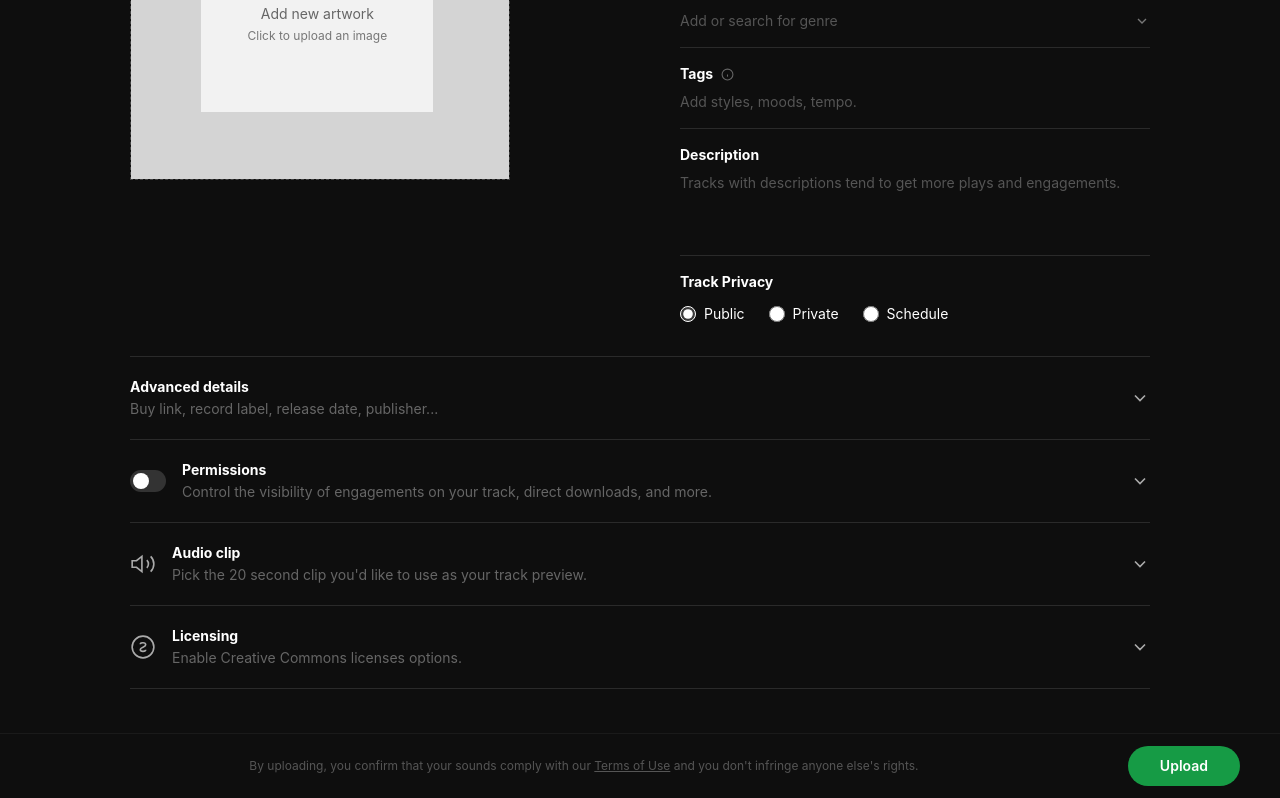
Test: TrackInfoPage › expands Advanced details when its section header is clicked
The width and height of the screenshot is (1280, 798).
(page scrolled)
Click the button with test id "advanced-details-toggle": (189, 386) [130,357,1150,439]
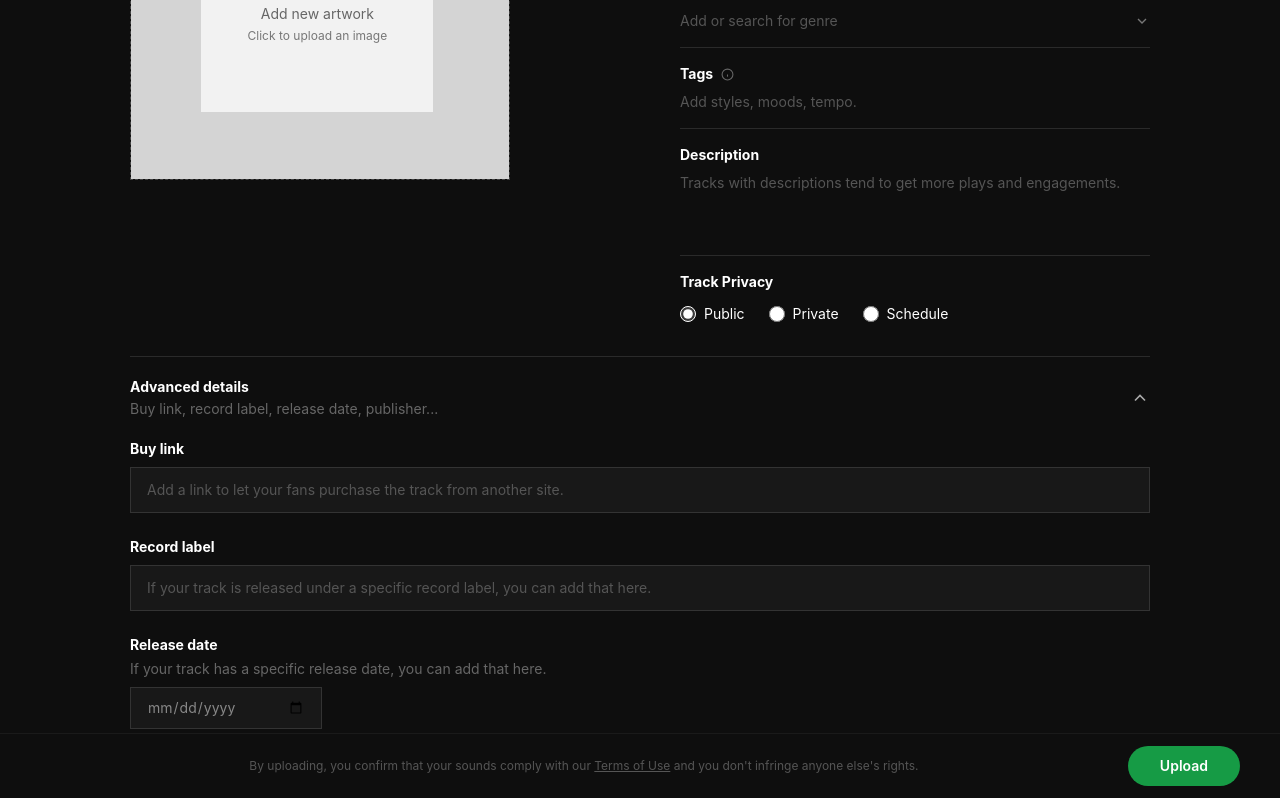
Now the text "Buy link" is shown, box [130,440,184,457]
